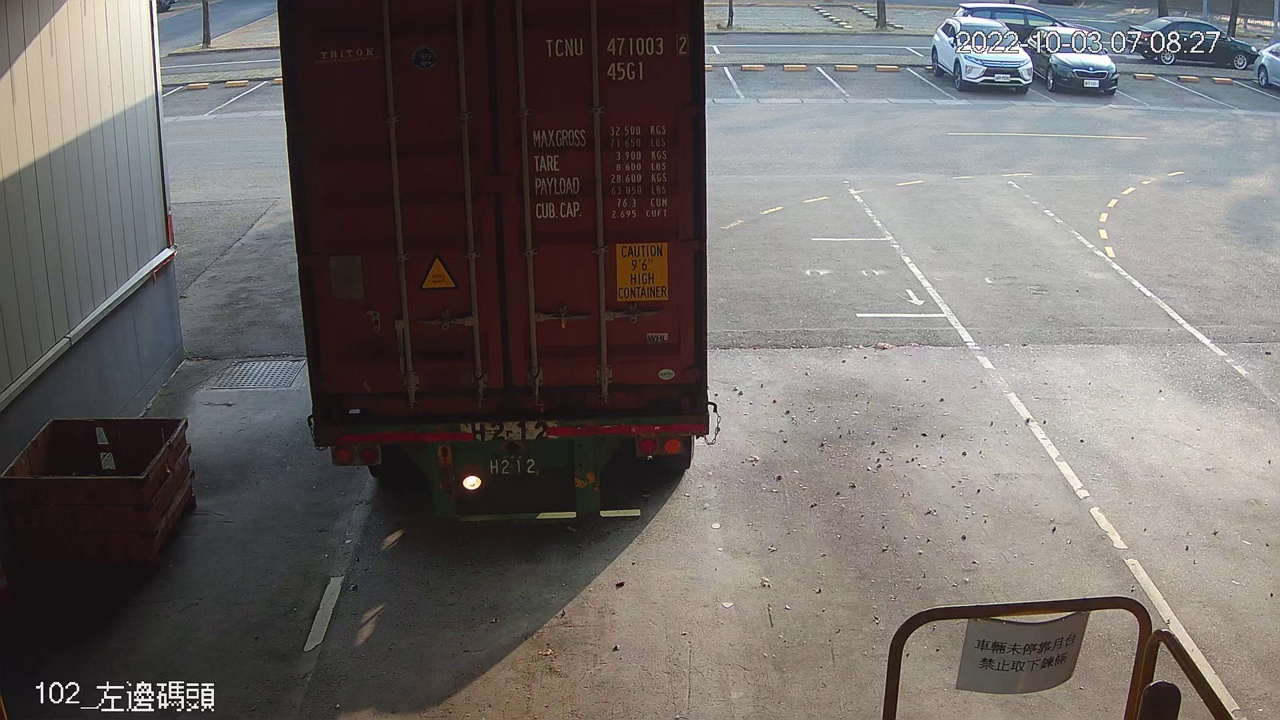container: (540, 30, 694, 86)
